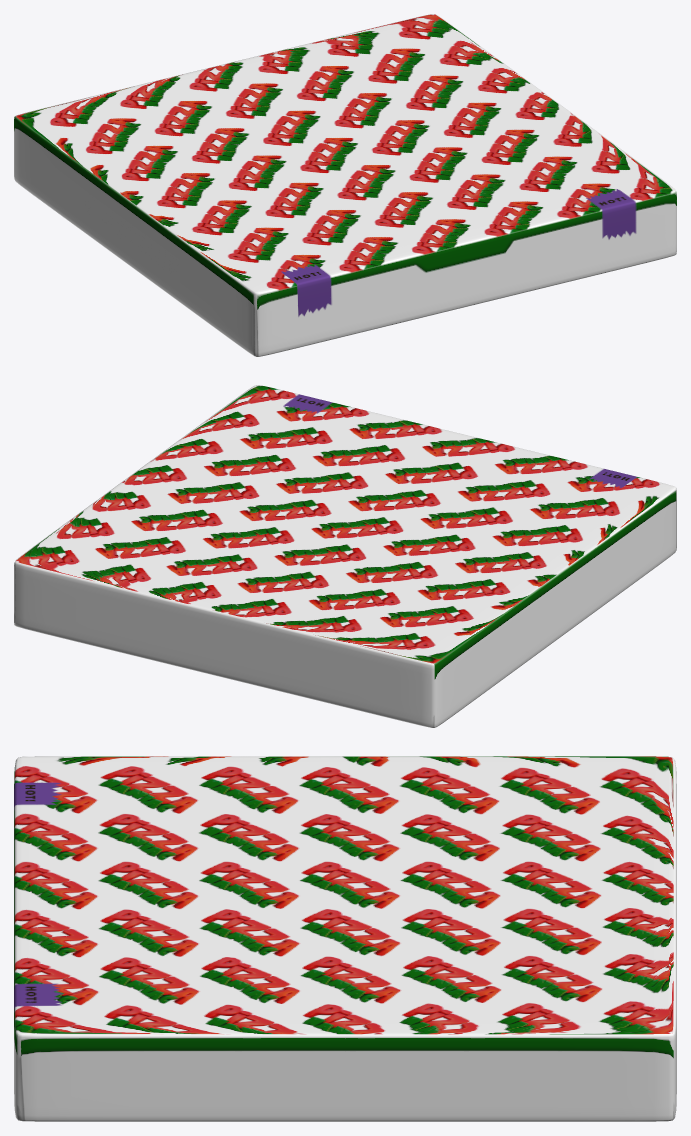
File: cajapicsa.fbx
The picture shows the model from 3 angles, top to bottom: view 1: azimuth 30°, elevation 25°; view 2: azimuth 150°, elevation 25°; view 3: azimuth 270°, elevation 25°; orthographic projection. The views are drawn at different scales.
Visible parts, largest first — view 1: Cube; view 2: Cube; view 3: Cube.
Boxes of the visible parts, x1,y1,x2,y2 form: Cube: (14, 14, 676, 356); Cube: (14, 385, 676, 727); Cube: (14, 756, 676, 1121).
Size of the model in its own units: 1000 by 146 by 1000.
